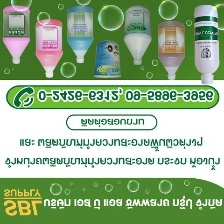insecticide: (192, 2, 220, 87), (121, 3, 152, 68), (1, 0, 31, 67), (156, 18, 186, 82), (34, 16, 63, 79), (65, 4, 94, 66), (91, 38, 123, 79)
